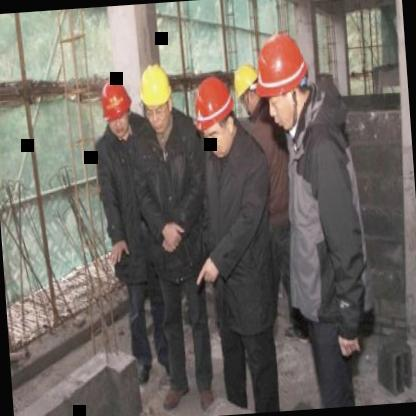helmet: (249, 26, 317, 141), (190, 73, 243, 158), (136, 59, 176, 134), (94, 74, 132, 141), (228, 63, 264, 121)
